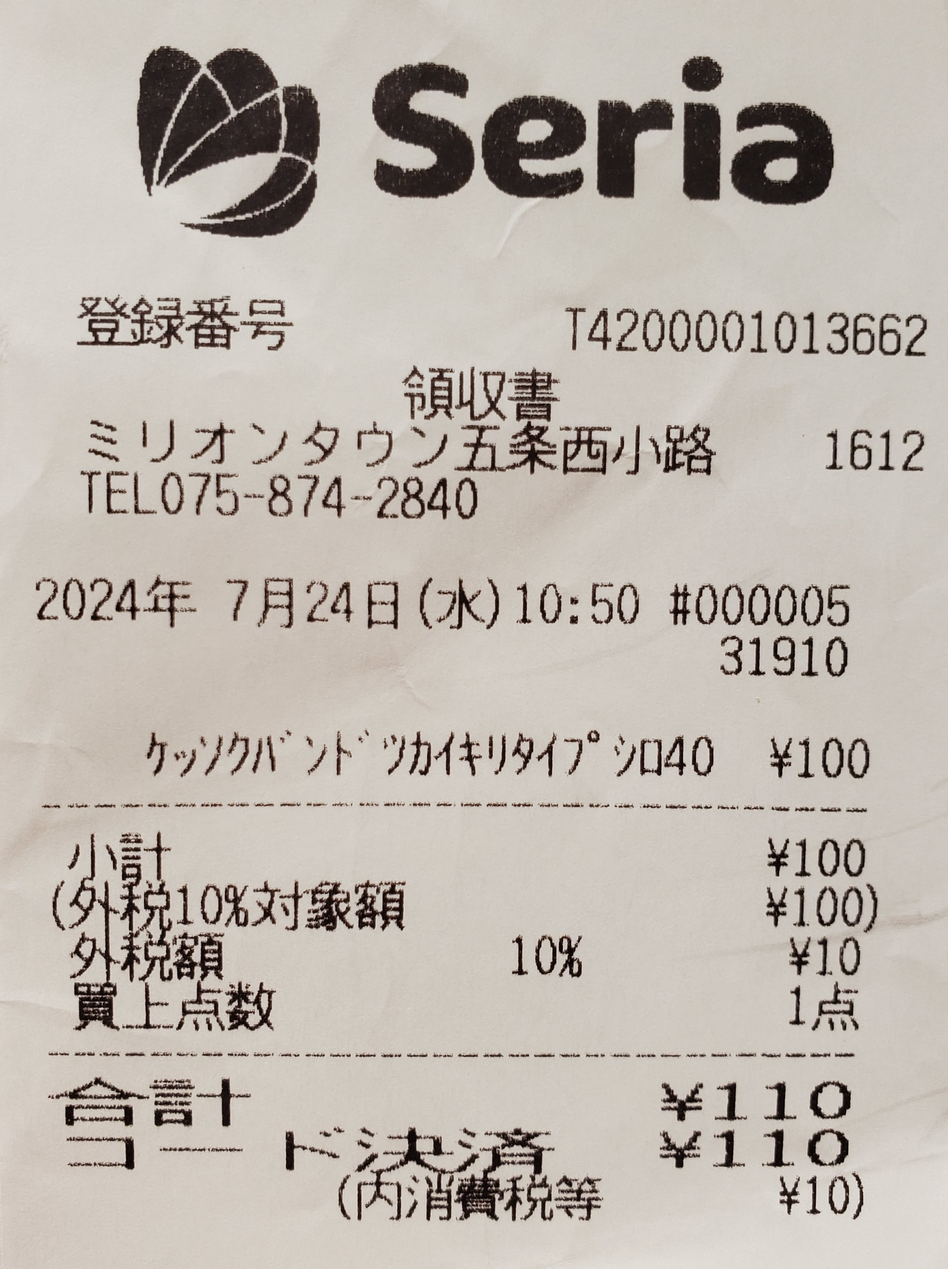Date: (32, 563, 417, 641)
Shopname: (360, 40, 879, 239)
Telnum: (158, 467, 497, 530)
Totalpay: (56, 1064, 869, 1126)
